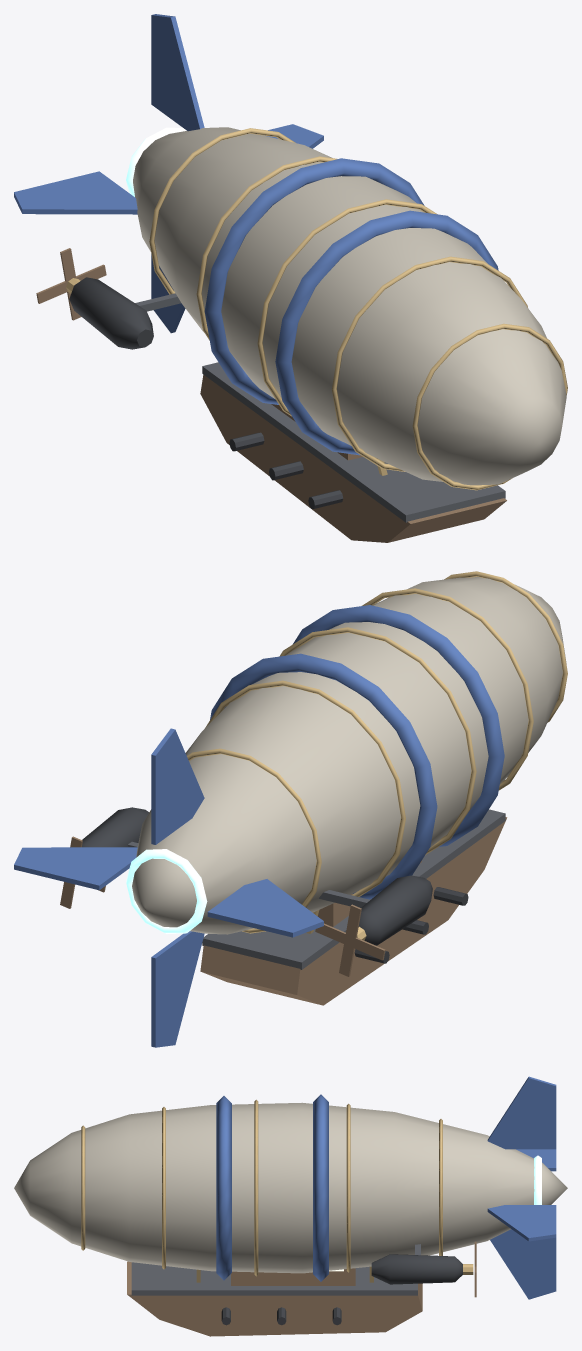
The model's file is airship.glb.
3 views of the same model, one above another, from view 1: azimuth 30°, elevation 25°; view 2: azimuth 150°, elevation 25°; view 3: azimuth 270°, elevation 25° (orthographic). The views are drawn at different scales.
Parts seen in each view (by area): view 1: hull, prop_l; view 2: hull, prop_l; view 3: hull.
Part boxes in pixels (x1,y1,x2,y2): hull: (14,14,567,542); prop_l: (36,248,106,320); hull: (14,571,567,1047); prop_l: (315,904,385,976); hull: (14,1076,567,1336).
Bounding box in the file's own units: 12.22 × 11.6 × 24.
